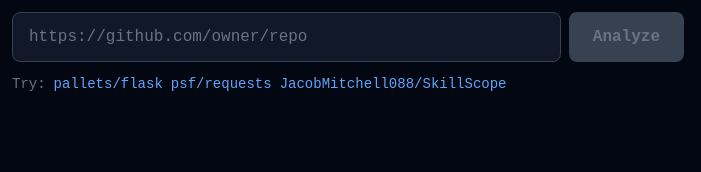
Test: RepoUrlForm › shows error message on submit failure
Step 1. Type "https://github.com/test/repo" into the field with placeholder "https://github.com/owner/repo" → (286, 37), box [12,12,561,62]
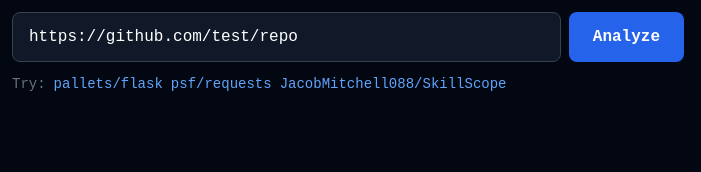
Step 2. Click the button "Analyze" → (626, 37), box [569,12,684,62]
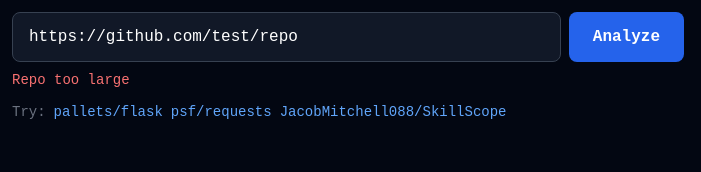
Expected: the text "Repo too large" is shown, [12,72,130,88]
